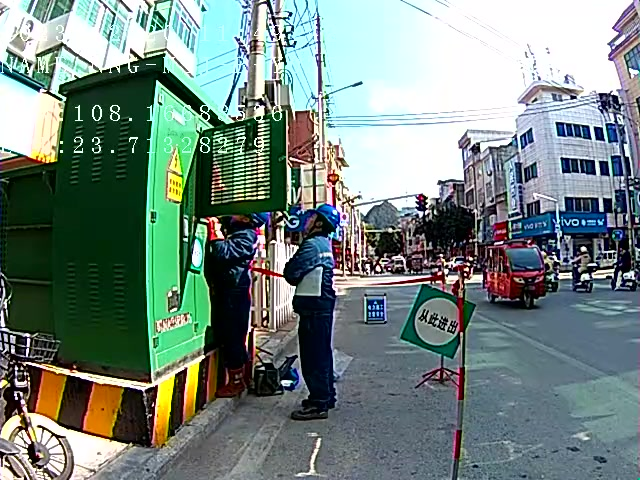downsuit: (294, 311, 336, 401), (216, 292, 252, 365)
halt: (297, 205, 341, 240)
inear: (313, 215, 325, 231)
intosign: (401, 286, 475, 358)
longglove: (206, 214, 226, 242)
person: (283, 202, 345, 417), (208, 212, 268, 396)
shoe: (219, 370, 248, 395)
upsuit: (285, 241, 334, 304), (215, 233, 253, 286)
worksign: (186, 232, 205, 274)
